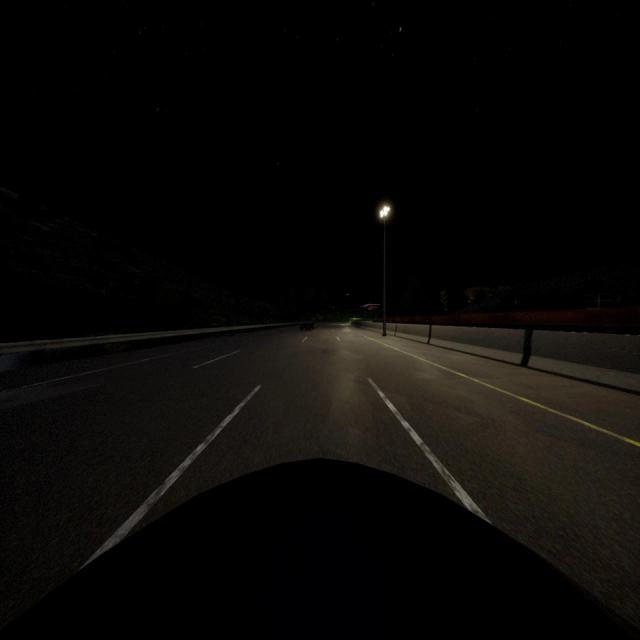Vehicle: (0, 457, 640, 640), (300, 318, 314, 332)
